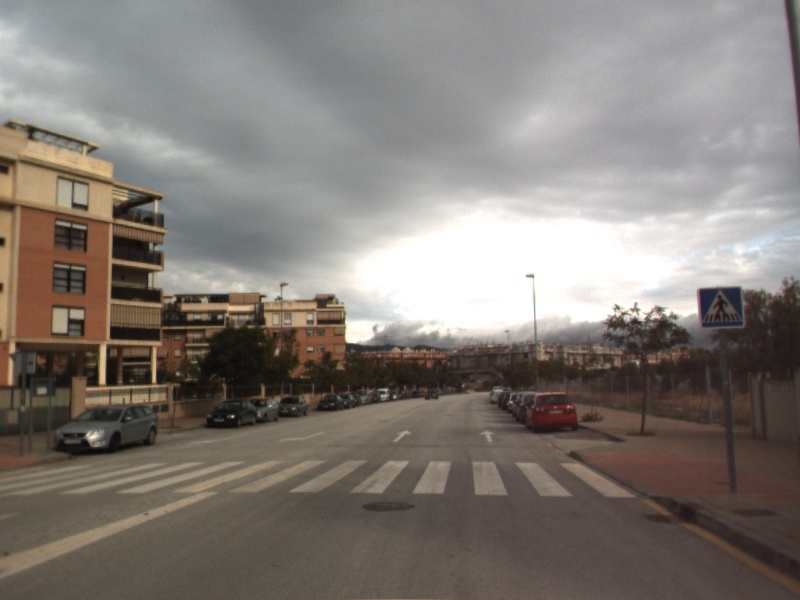STRAIGHT: (391, 428, 414, 444), (477, 428, 498, 444)
